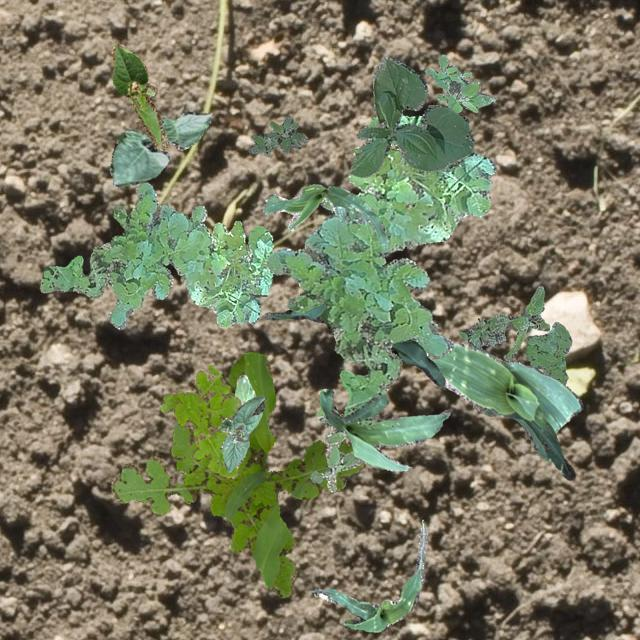crop: (420, 342, 582, 478), (262, 302, 444, 386), (348, 56, 474, 176), (309, 522, 426, 630), (318, 388, 448, 470), (262, 184, 388, 248), (108, 111, 210, 186), (110, 42, 166, 150), (218, 394, 266, 470), (227, 374, 254, 434)
weed: (264, 113, 494, 425), (109, 350, 363, 596), (38, 182, 272, 328), (158, 363, 240, 478), (458, 284, 548, 360), (310, 406, 362, 491), (424, 54, 496, 112), (522, 320, 570, 384), (248, 114, 308, 156)
